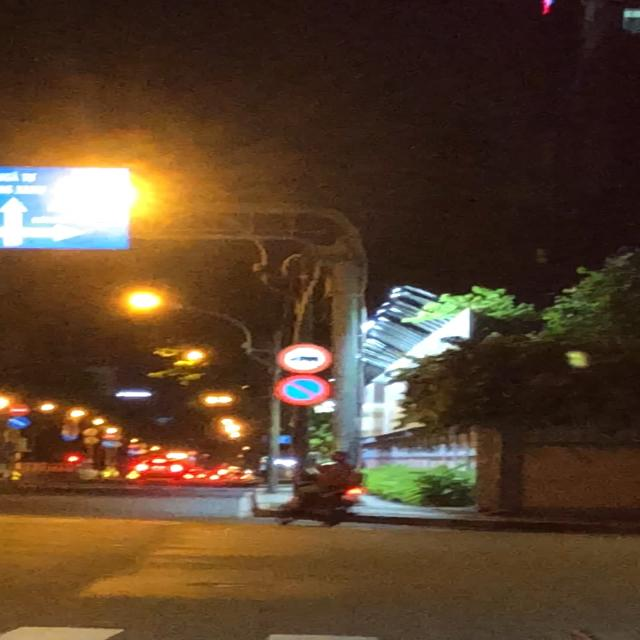Bien bao cam do xe: (268, 374, 334, 406)
Bien bao cam xe so-mi ro-mooc: (269, 338, 337, 374)
